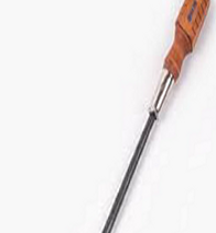screwdriver: (102, 1, 211, 233)
